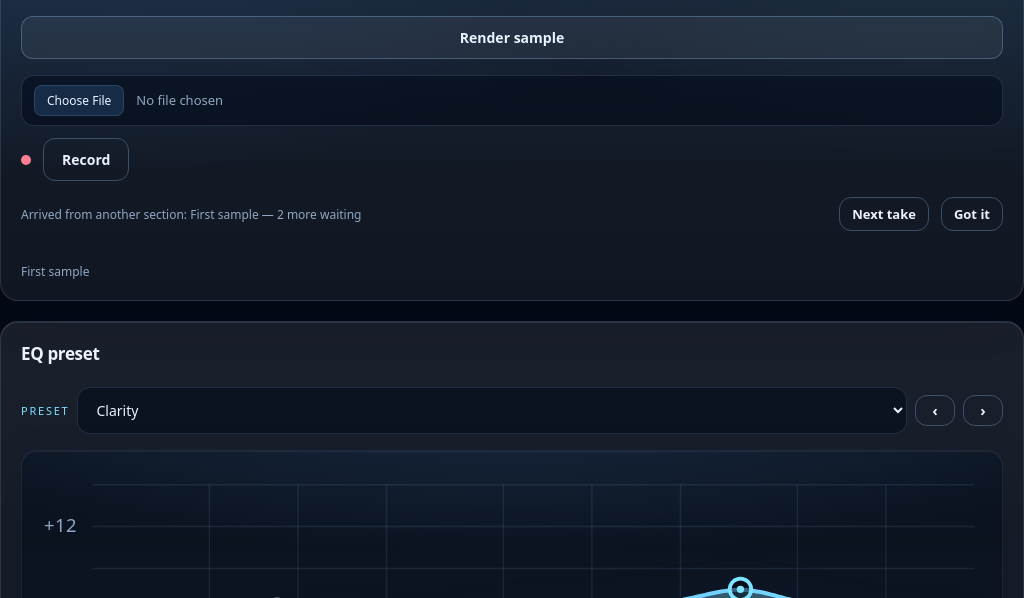
Scenario: Shape hand-off › keeps the queue reachable after the arrival notice is dismissed
This screenshot has width=1024, height=598.
(page scrolled)
Expected: the text "Arrived from another section: First sample — 2 more waiting" is shown, [21,206,362,223]
Click the button "Got it": click(972, 214) [941,197,1003,231]
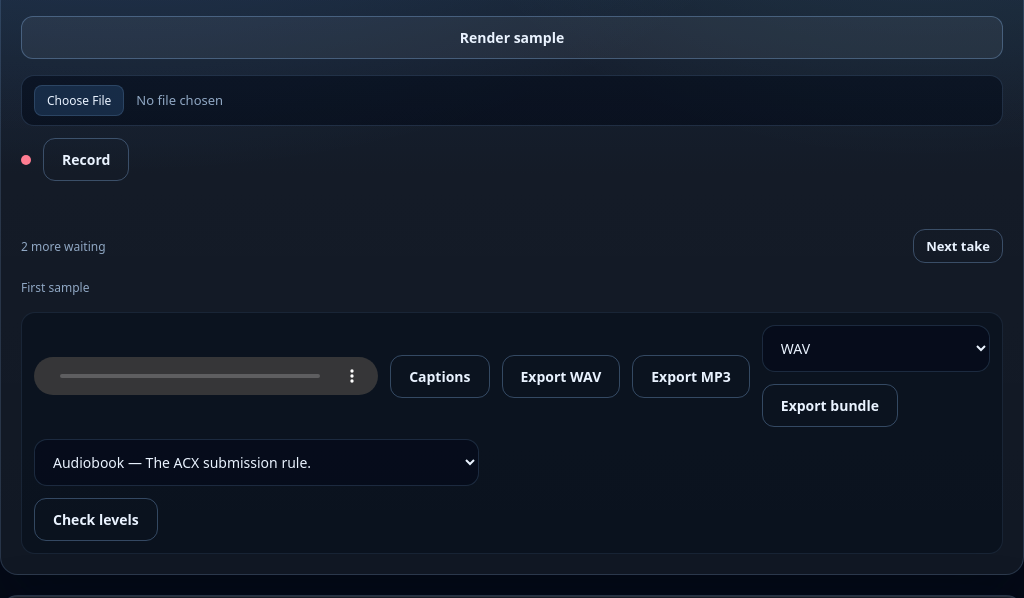
Expected: the text "2 more waiting" is shown, [21,238,106,255]
Expected: the text "Arrived from another section" is gone
Click the button "Next take": click(958, 246) [913,229,1003,263]
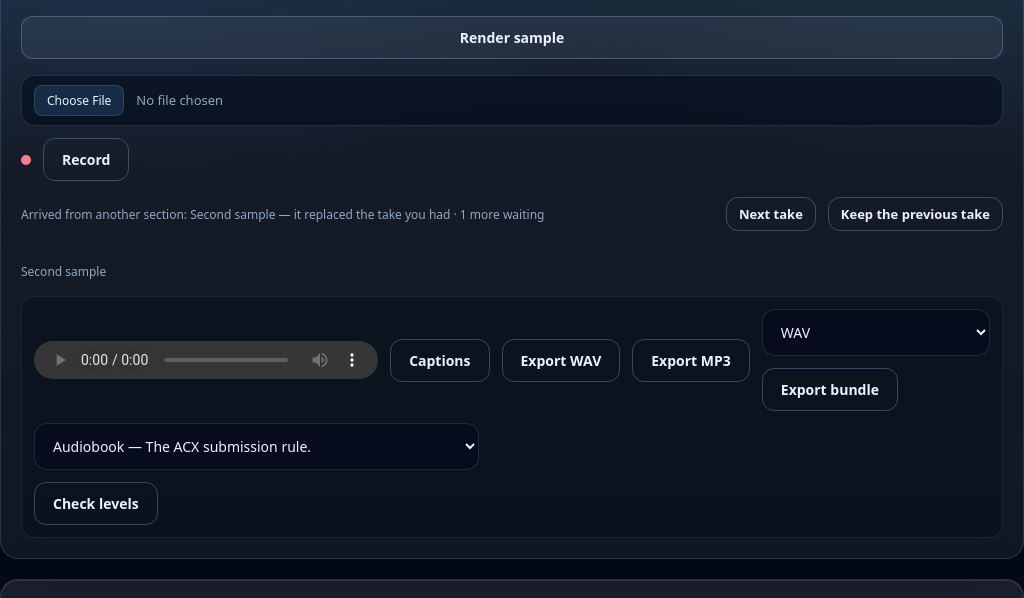
Expected: the text "1 more waiting" is shown, [276,206,544,223]
